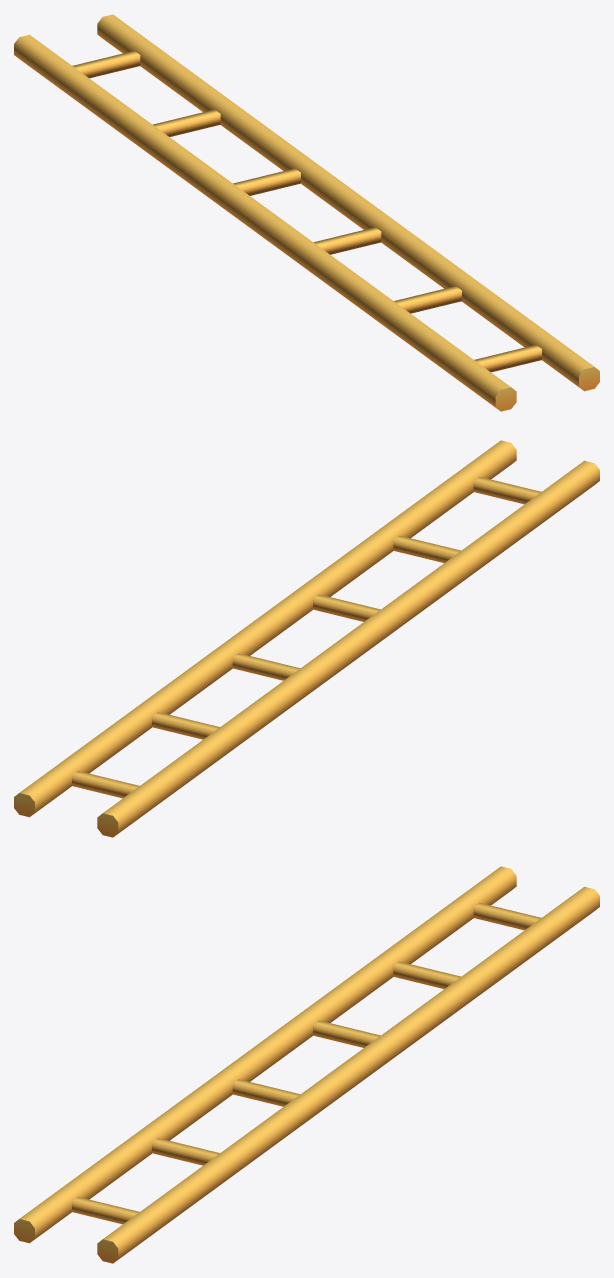
File: coaster-mouse-straight.glb
3 renders of one model, top to bottom at view 1: azimuth 30°, elevation 25°; view 2: azimuth 150°, elevation 25°; view 3: azimuth 330°, elevation 25°, orthographic.
Parts seen in each view (by area): view 1: coaster-mouse-straight; view 2: coaster-mouse-straight; view 3: coaster-mouse-straight.
Part boxes in pixels (x1=…): coaster-mouse-straight: x1=14, y1=14, x2=599, y2=411; coaster-mouse-straight: x1=14, y1=440, x2=599, y2=837; coaster-mouse-straight: x1=14, y1=866, x2=599, y2=1263.
Size of the model in its own units: 0.5 by 0.1001 by 4.
Materials: 1 (1 with a texture image).
